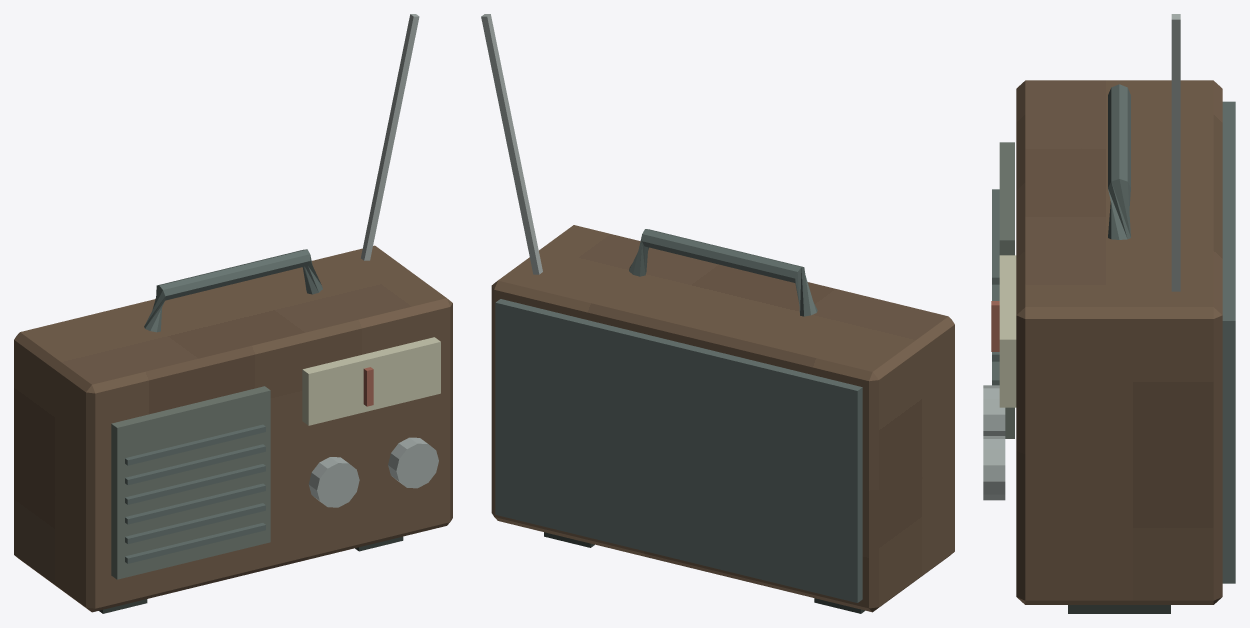
File: radio-small.glb
The picture shows the model from 3 angles, left to right: view 1: azimuth 30°, elevation 25°; view 2: azimuth 150°, elevation 25°; view 3: azimuth 270°, elevation 25°; orthographic projection. The views are drawn at different scales.
Visible parts, largest first — view 1: radio-small/case, radio-small/speaker, radio-small/tuning-window, radio-small/carry-handle, radio-small/aerial, radio-small/knob-0.155, radio-small/knob-0.062, radio-small/grille-1, radio-small/grille-3, radio-small/grille-2, radio-small/grille-4, radio-small/grille-5 (+1 smaller); view 2: radio-small/rear, radio-small/case, radio-small/carry-handle, radio-small/aerial; view 3: radio-small/case, radio-small/rear, radio-small/carry-handle, radio-small/aerial, radio-small/tuning-window, radio-small/speaker, radio-small/knob-0.155, radio-small/knob-0.062, radio-small/foot-0.15, radio-small/grille-5, radio-small/dial-pointer.
Boxes of the visible parts, x1=… form: radio-small/case: x1=14, y1=245, x2=452, y2=612; radio-small/speaker: x1=111, y1=386, x2=270, y2=579; radio-small/tuning-window: x1=302, y1=337, x2=440, y2=425; radio-small/carry-handle: x1=144, y1=249, x2=322, y2=332; radio-small/aerial: x1=361, y1=14, x2=419, y2=260; radio-small/knob-0.155: x1=388, y1=437, x2=438, y2=488; radio-small/knob-0.062: x1=308, y1=457, x2=359, y2=507; radio-small/grille-1: x1=125, y1=503, x2=265, y2=544; radio-small/grille-3: x1=125, y1=464, x2=265, y2=504; radio-small/grille-2: x1=125, y1=483, x2=265, y2=524; radio-small/grille-4: x1=125, y1=444, x2=265, y2=485; radio-small/grille-5: x1=125, y1=424, x2=265, y2=465; radio-small/rear: x1=495, y1=299, x2=862, y2=602; radio-small/case: x1=491, y1=225, x2=954, y2=612; radio-small/carry-handle: x1=629, y1=229, x2=817, y2=316; radio-small/aerial: x1=481, y1=14, x2=542, y2=274; radio-small/case: x1=1016, y1=80, x2=1222, y2=604; radio-small/rear: x1=1222, y1=101, x2=1235, y2=583; radio-small/carry-handle: x1=1108, y1=84, x2=1130, y2=239; radio-small/aerial: x1=1171, y1=14, x2=1180, y2=291; radio-small/tuning-window: x1=999, y1=255, x2=1016, y2=407; radio-small/speaker: x1=999, y1=142, x2=1014, y2=438; radio-small/knob-0.155: x1=983, y1=436, x2=1005, y2=500; radio-small/knob-0.062: x1=983, y1=385, x2=1005, y2=435; radio-small/foot-0.15: x1=1068, y1=605, x2=1170, y2=613; radio-small/grille-5: x1=992, y1=189, x2=999, y2=284; radio-small/dial-pointer: x1=991, y1=301, x2=999, y2=351.
Size of the model in its own units: 0.4564 by 0.5408 by 0.1955.
Materials: 7 (7 with a texture image).
